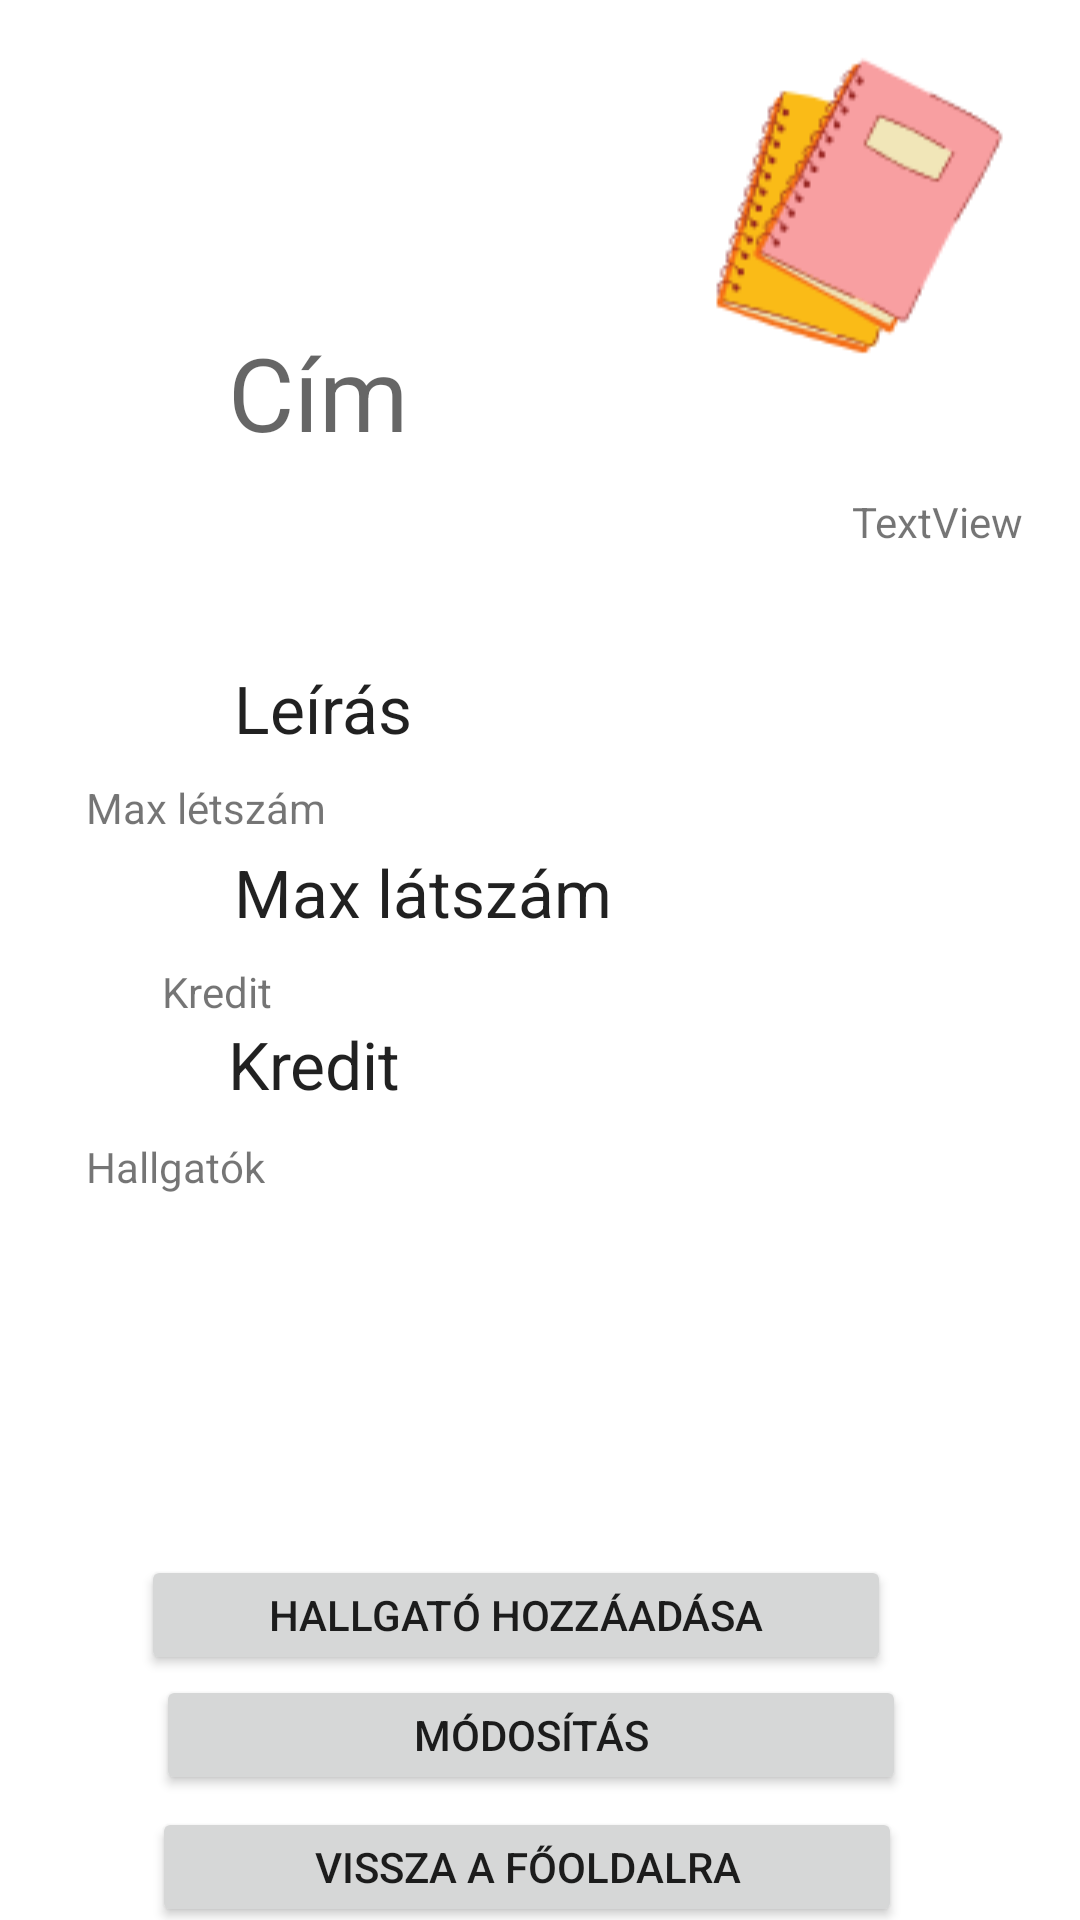

Icon bounding boxes for this 1080px×1920px phone screenshot, format region(x1, y1, x2, y2):
tutorapp: region(716, 59, 1003, 354)
